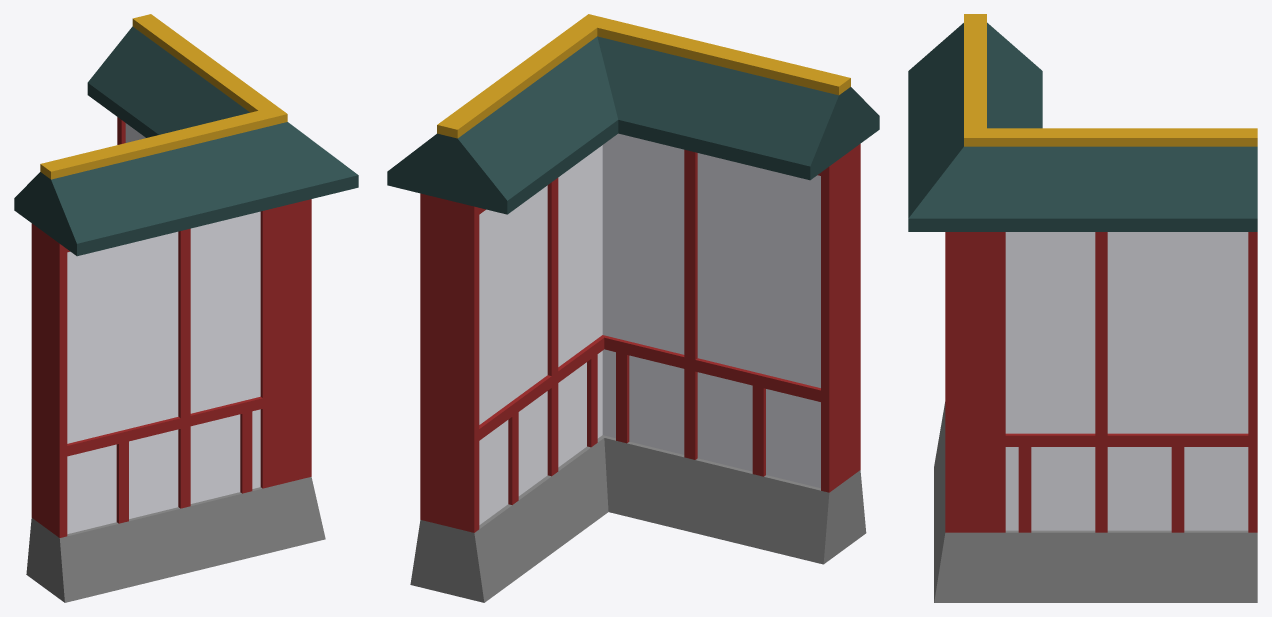
The model's file is Asian_Prop_Building_Fence_Wall_Framed_Corner_03.FBX.
The picture shows the model from 3 angles, left to right: view 1: azimuth 30°, elevation 25°; view 2: azimuth 150°, elevation 25°; view 3: azimuth 270°, elevation 25°; orthographic projection. The views are drawn at different scales.
Parts seen in each view (by area): view 1: Asian_Prop_Building_Fence_Wall_Framed_Corner_03; view 2: Asian_Prop_Building_Fence_Wall_Framed_Corner_03; view 3: Asian_Prop_Building_Fence_Wall_Framed_Corner_03.
Part boxes in pixels (<box>): Asian_Prop_Building_Fence_Wall_Framed_Corner_03: <box>14,14,358,602</box>; Asian_Prop_Building_Fence_Wall_Framed_Corner_03: <box>387,14,879,602</box>; Asian_Prop_Building_Fence_Wall_Framed_Corner_03: <box>908,14,1257,602</box>.
Size of the model in its own units: 2890 by 4128 by 2890.
